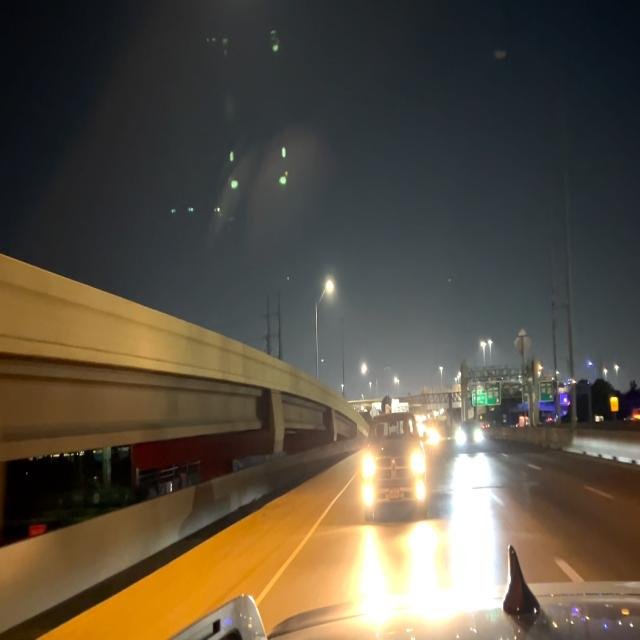back-of-sign: (516, 330, 531, 357)
